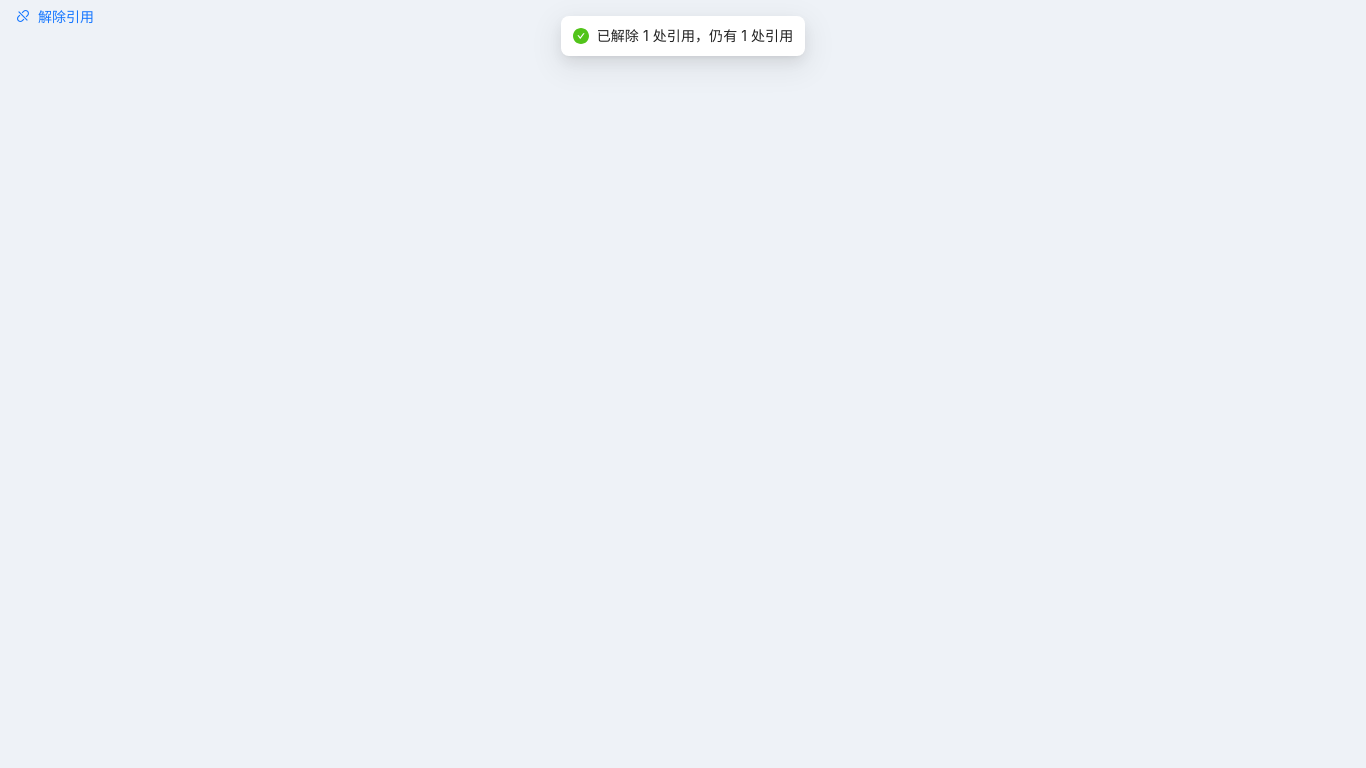
it: File reference actions › closes an old target form and isolates its pending response from a newly selected file
Earlier steps of the test are not shown.
Later steps or results of the test are not shown.
Click the button with aria-label "解除引用 另一个.json".
click(55, 16)  # box [0,0,110,32]
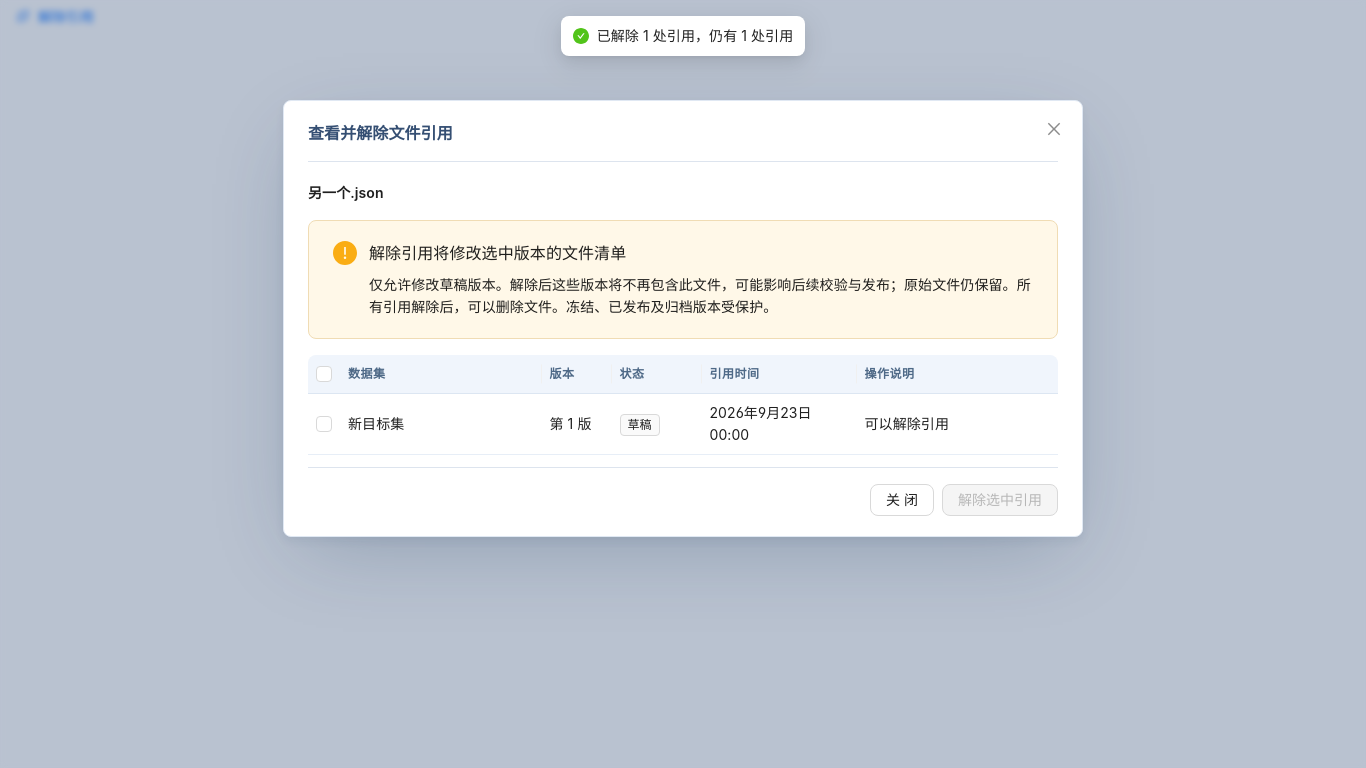
expect the checkbox named "选择 新目标集 第 1 版" is not checked: met
expect the button "解除选中引用" is disabled: met, box [942,484,1058,516]
Click the checkbox named "选择 新目标集 第 1 版".
click(324, 424)  # box [316,413,332,435]
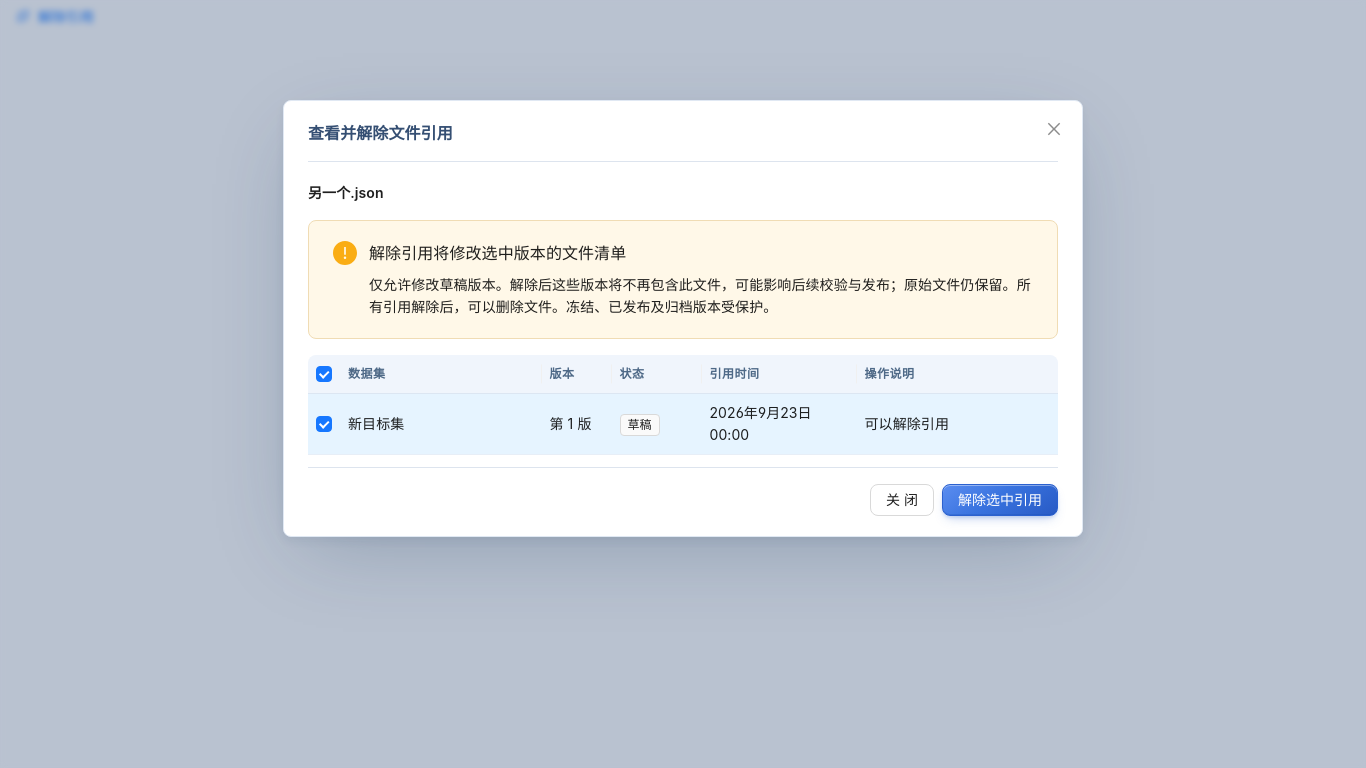
expect the checkbox named "选择 新目标集 第 1 版" is checked: met, box [316,413,332,435]
expect the dialog is shown: met, box [283,100,1083,561]
expect the button "解除选中引用" is enabled: met, box [942,484,1058,516]
